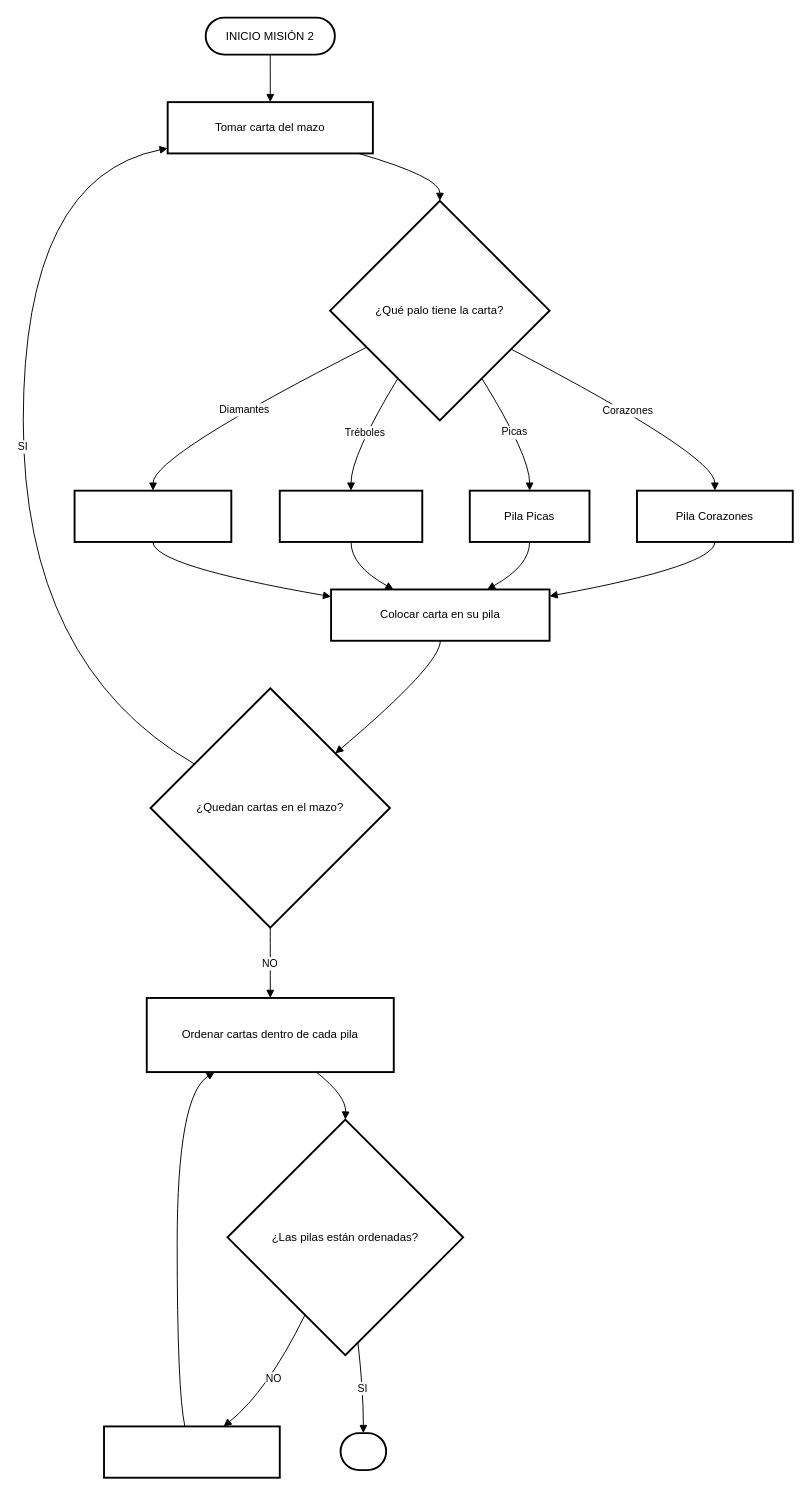
This 809x1494 diagram has some shape labels left out. Here are the shapes that lost their labels. From the top down, the centre of each, then its label:
point 152,515: Pila Diamantes
point 350,515: Pila Tréboles
point 191,1451: Seguir ordenando
point 363,1451: FIN
